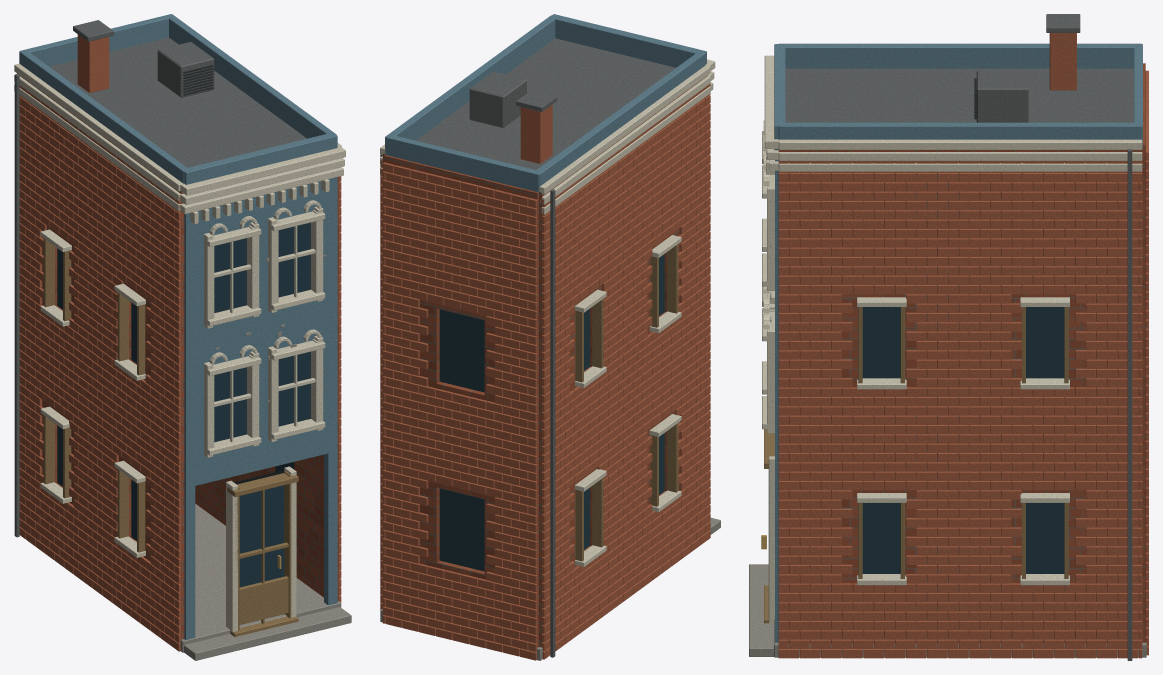
Rendered from VICT11_lod0.glb.
3 renders of one model, left to right at view 1: azimuth 30°, elevation 25°; view 2: azimuth 150°, elevation 25°; view 3: azimuth 270°, elevation 25°, orthographic. The views are drawn at different scales.
Parts seen in each view (by area): view 1: VICT11_LOD0; view 2: VICT11_LOD0; view 3: VICT11_LOD0.
Boxes of the visible parts, x1,y1,x2,y2 form: VICT11_LOD0: (14, 14, 351, 660); VICT11_LOD0: (380, 14, 720, 660); VICT11_LOD0: (749, 14, 1148, 660).
Bounding box in the file's own units: 3.71 × 10.45 × 6.6.
Materials: 13 (10 with a texture image).
